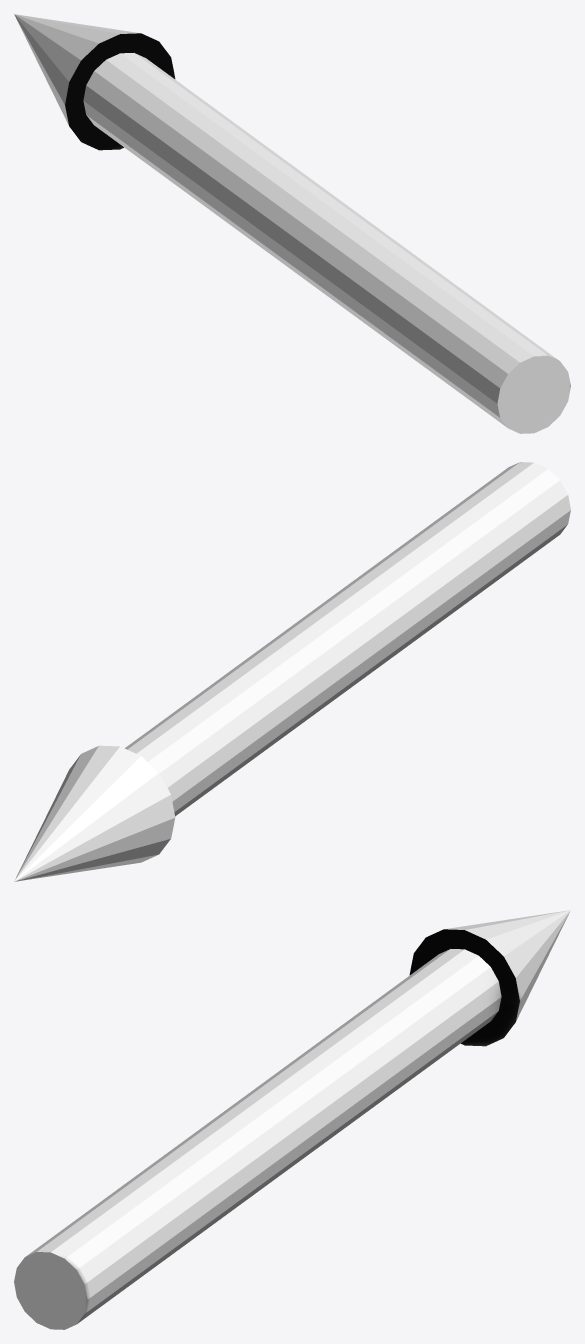
File: arrow.glb
The picture shows the model from 3 angles, top to bottom: view 1: azimuth 30°, elevation 25°; view 2: azimuth 150°, elevation 25°; view 3: azimuth 330°, elevation 25°; orthographic projection.
Visible parts, largest first — view 1: Cylinder; view 2: Cylinder; view 3: Cylinder.
Boxes of the visible parts, bbox=[...] form: Cylinder: bbox=[14, 14, 570, 433]; Cylinder: bbox=[14, 462, 570, 881]; Cylinder: bbox=[14, 910, 570, 1329].
Size of the model in its own units: 0.03 by 0.03 by 0.245.
1 material, 1 textured.
